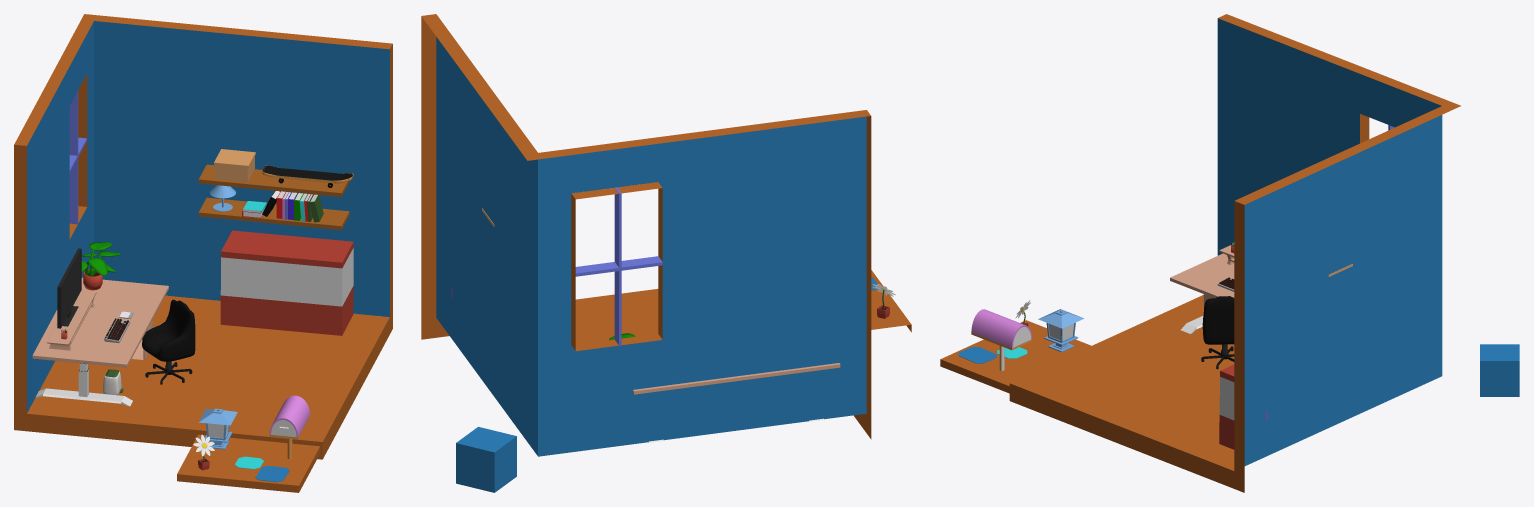
Rendered from roomFinal.glb.
The picture shows the model from 3 angles, left to right: view 1: azimuth 30°, elevation 25°; view 2: azimuth 150°, elevation 25°; view 3: azimuth 270°, elevation 25°; orthographic projection. The views are drawn at different scales.
Visible parts, largest first — view 1: Body, Aquarium, Shelves, Desks, Minifloor, Table Stuff, Chair, Mailbox, Computer, Floor Items, Lamp, Floor First; view 2: Body, Cube, Desks, Minifloor; view 3: Body, Minifloor, Cube, Desks, Mailbox, Chair, Aquarium, Lamp.
Part boxes in pixels (x1,y1,x2,y2): Body: [14, 14, 392, 459]; Aquarium: [220, 230, 353, 335]; Shelves: [198, 149, 353, 229]; Desks: [32, 277, 168, 406]; Minifloor: [177, 434, 320, 492]; Table Stuff: [46, 242, 133, 350]; Chair: [142, 299, 195, 361]; Mailbox: [269, 395, 310, 459]; Computer: [57, 248, 81, 328]; Floor Items: [102, 319, 192, 395]; Lamp: [198, 408, 237, 449]; Floor First: [255, 466, 289, 482]; Body: [421, 14, 871, 456]; Cube: [456, 426, 516, 492]; Desks: [633, 363, 840, 442]; Minifloor: [871, 270, 911, 332]; Body: [1009, 14, 1460, 492]; Minifloor: [940, 320, 1091, 393]; Cube: [1480, 344, 1519, 396]; Desks: [1170, 253, 1234, 333]; Mailbox: [971, 309, 1031, 370]; Chair: [1202, 296, 1234, 344]; Aquarium: [1219, 364, 1234, 449]; Lamp: [1038, 309, 1084, 352].
Bounding box in the file's own units: 22.74 × 16 × 29.15.
